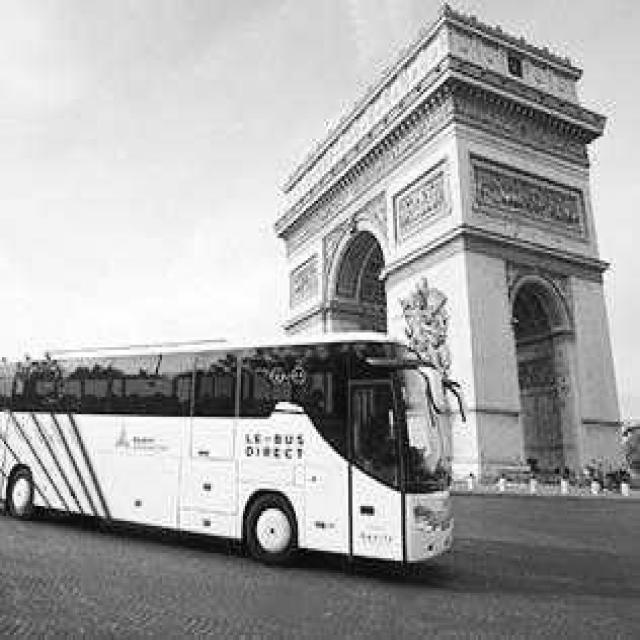Bus: (0, 333, 452, 562)
